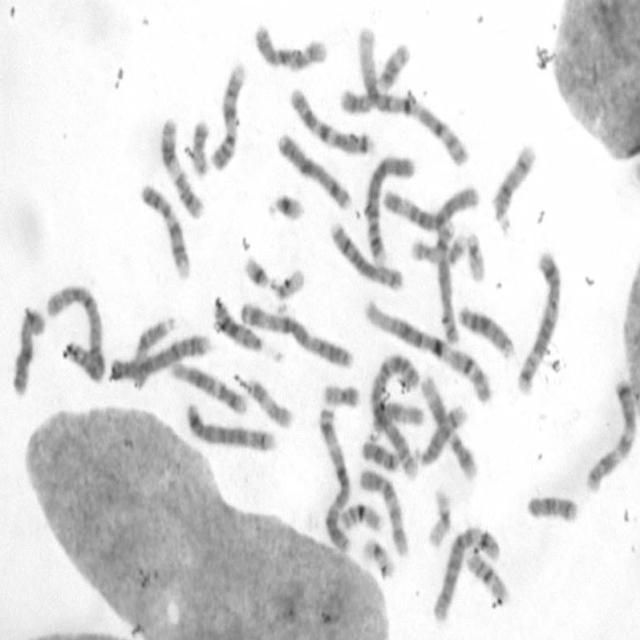A1: (354, 23, 471, 168), (360, 296, 494, 406)
A2: (366, 349, 422, 480), (43, 280, 106, 384)
A3: (237, 296, 354, 370), (314, 402, 353, 554)
B4: (361, 150, 416, 266), (106, 328, 213, 384)
B5: (513, 247, 563, 395), (183, 400, 277, 452)
C10: (357, 464, 410, 558), (250, 20, 329, 74)
C11: (336, 40, 411, 116), (157, 113, 205, 221)
C12: (418, 372, 478, 482), (168, 356, 248, 417)
C6: (428, 520, 503, 624), (378, 178, 481, 232)
C7: (581, 374, 637, 494), (287, 82, 374, 158)
C8: (326, 218, 405, 293), (433, 216, 460, 347)
C9: (137, 180, 192, 282), (209, 57, 247, 173)
D13: (456, 300, 516, 361), (209, 294, 265, 354)
D14: (489, 140, 537, 234), (416, 401, 468, 468)
D15: (130, 312, 177, 390), (367, 397, 425, 435)
E16: (464, 547, 508, 602), (338, 499, 383, 535)
E17: (242, 372, 294, 431), (408, 229, 468, 266)
E18: (524, 490, 579, 524), (359, 436, 400, 473)
F19: (425, 486, 453, 550), (360, 534, 396, 580)
F20: (188, 115, 211, 178), (319, 378, 362, 409)
G21: (264, 190, 306, 224), (241, 252, 270, 290)
G22: (464, 225, 488, 284), (269, 267, 306, 302)
X: (274, 129, 352, 211), (9, 301, 46, 399)
